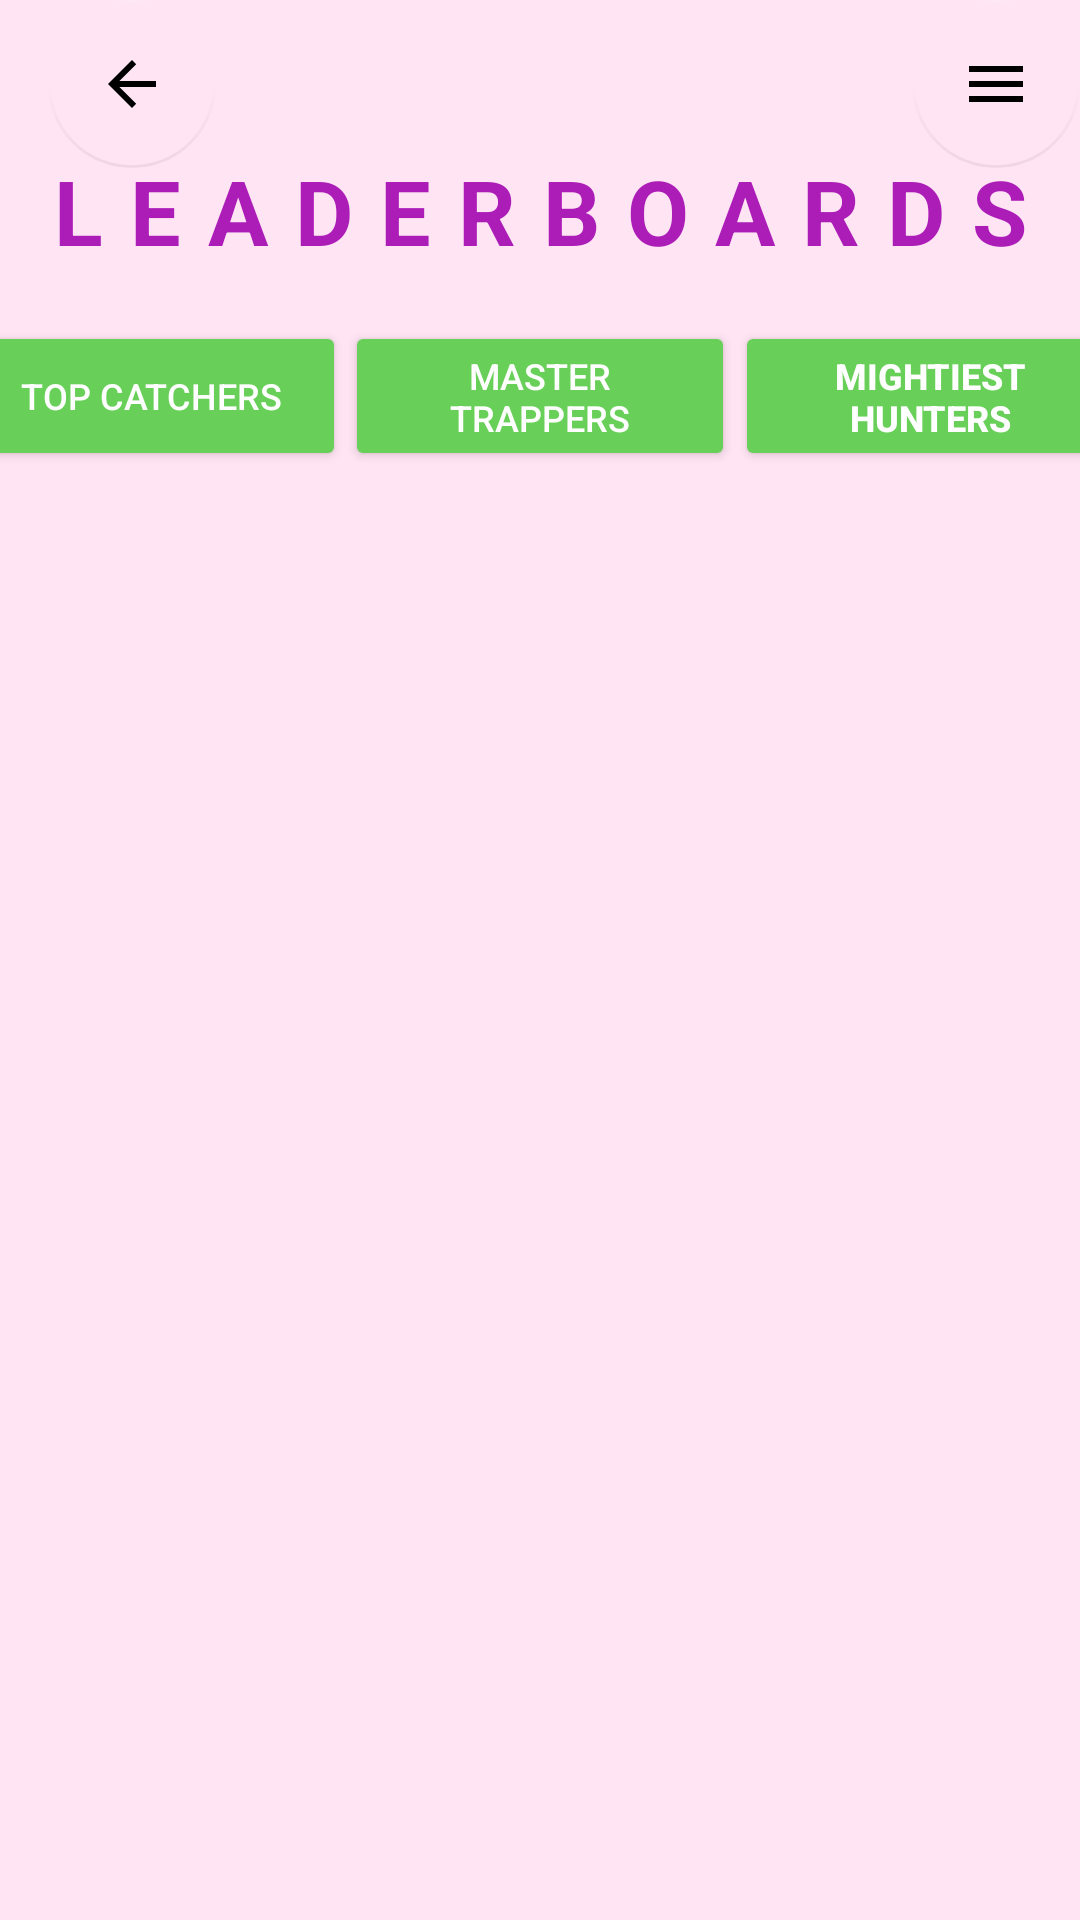

Icons on this 1080x1920 Android screen, each with its box as detection(x1, y1, x2, y2):
hamburger: detection(969, 66, 1023, 102)
